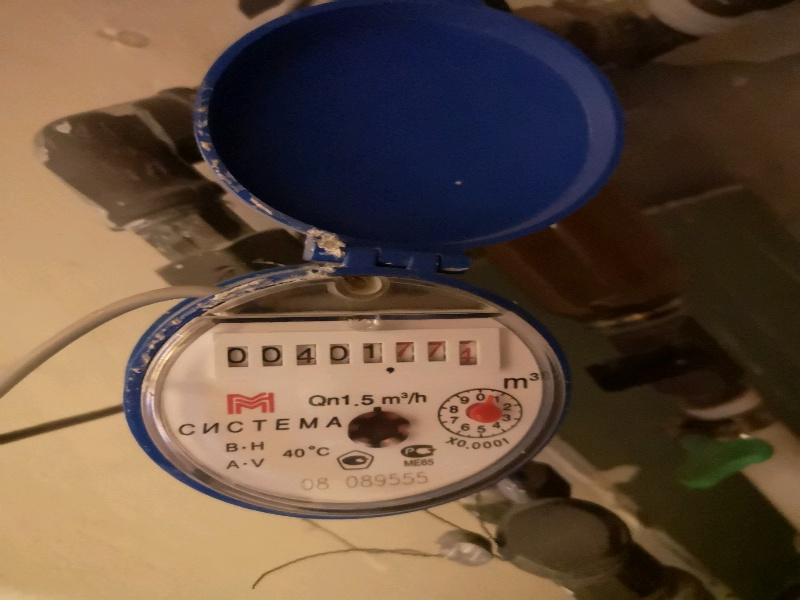meter: (212, 334, 495, 376)
